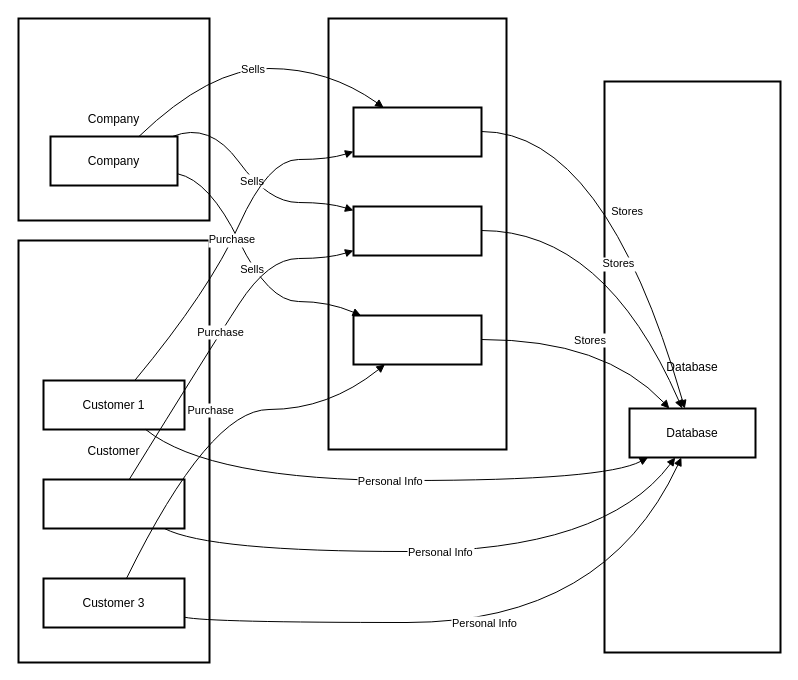
The diagram is 798 pixels wide and 680 high, and some of its shapes have lost their labels. Here are the shapes that lost their labels. From the top down, the centre of each, then its label:
At (x=417, y=131): "Product 1".
At (x=417, y=230): "Product 2".
At (x=417, y=339): "Product 3".
At (x=113, y=503): "Customer 2".
